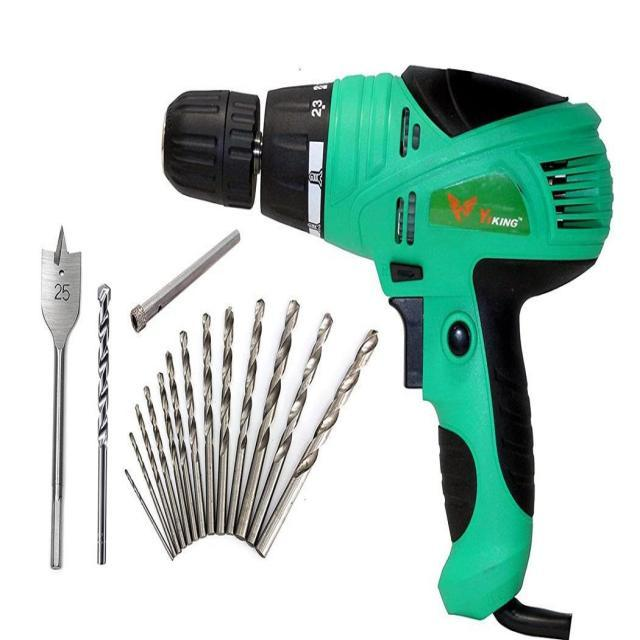drill: (162, 65, 615, 640)
